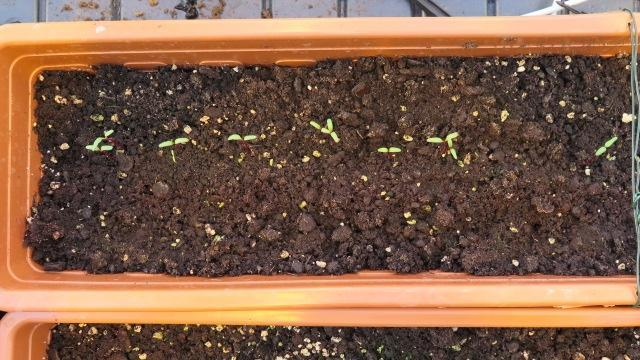crop: (592, 133, 619, 156), (153, 134, 193, 148), (221, 131, 262, 142), (372, 143, 402, 153)
